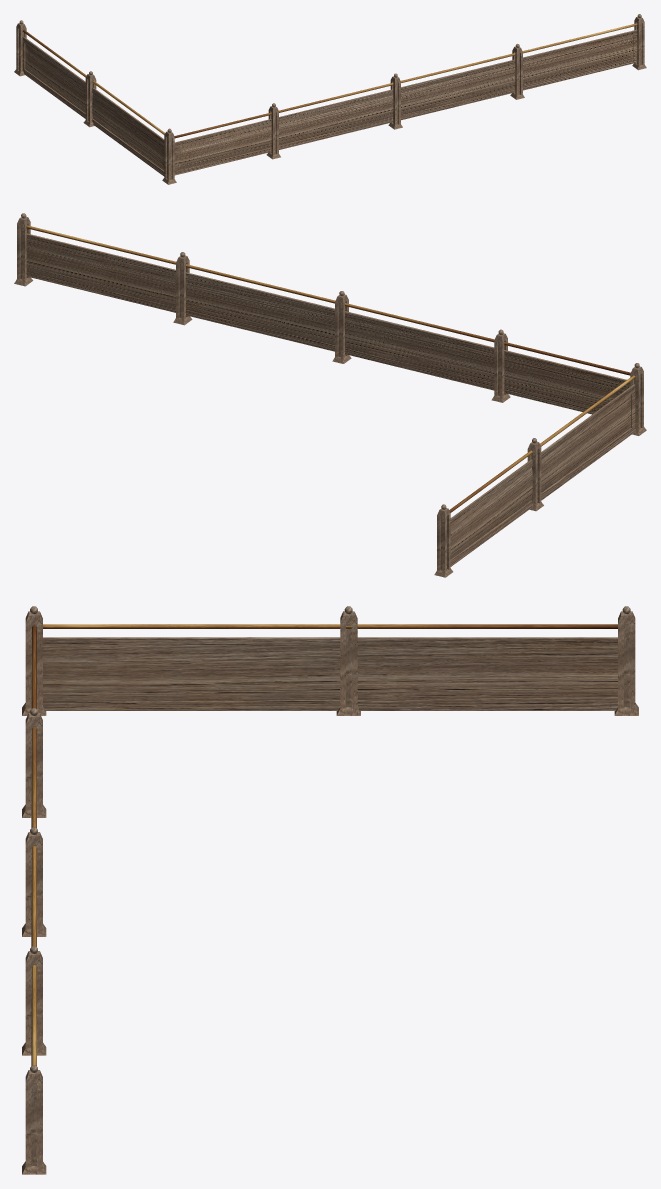
File: Railing.FBX
3 views of the same model, one above another, from view 1: azimuth 30°, elevation 25°; view 2: azimuth 150°, elevation 25°; view 3: azimuth 270°, elevation 25° (orthographic). The views are drawn at different scales.
Visible parts, largest first — view 1: Box100, Box105, Cylinder001, Box098, Cylinder002, Box101, Box102, Box103, Box097, Box104, Box099; view 2: Box100, Box105, Cylinder001, Box099, Box103, Cylinder002, Box102, Box097, Box101, Box104, Box098; view 3: Box105, Cylinder002, Box097, Cylinder001, Box099, Box104, Box101, Box102, Box103, Box098.
Part boxes in pixels (x1,y1,x2,y2): Box100: [174, 29, 637, 175]; Box105: [22, 36, 164, 176]; Cylinder001: [174, 23, 637, 138]; Box098: [162, 131, 176, 184]; Cylinder002: [23, 30, 165, 134]; Box101: [510, 46, 524, 99]; Box102: [388, 76, 402, 129]; Box103: [266, 106, 280, 159]; Box097: [632, 17, 646, 70]; Box104: [83, 74, 96, 127]; Box099: [14, 23, 26, 76]; Box100: [26, 233, 630, 414]; Box105: [450, 384, 635, 566]; Cylinder001: [26, 225, 630, 375]; Box099: [434, 508, 453, 577]; Box103: [491, 333, 510, 402]; Cylinder002: [449, 375, 635, 512]; Box102: [332, 294, 351, 363]; Box097: [14, 217, 33, 286]; Box101: [173, 255, 192, 325]; Box104: [527, 441, 543, 511]; Box098: [630, 366, 646, 435]; Box105: [43, 637, 617, 710]; Cylinder002: [43, 624, 617, 628]; Box097: [22, 1070, 46, 1174]; Cylinder001: [32, 625, 36, 1065]; Box099: [614, 611, 638, 715]; Box104: [336, 611, 360, 715]; Box101: [22, 951, 46, 1055]; Box102: [22, 832, 46, 936]; Box103: [22, 713, 46, 817]; Box098: [22, 611, 46, 715].
Size of the model in its own units: 707 by 74.37 by 395.
2 materials, 2 textured.
